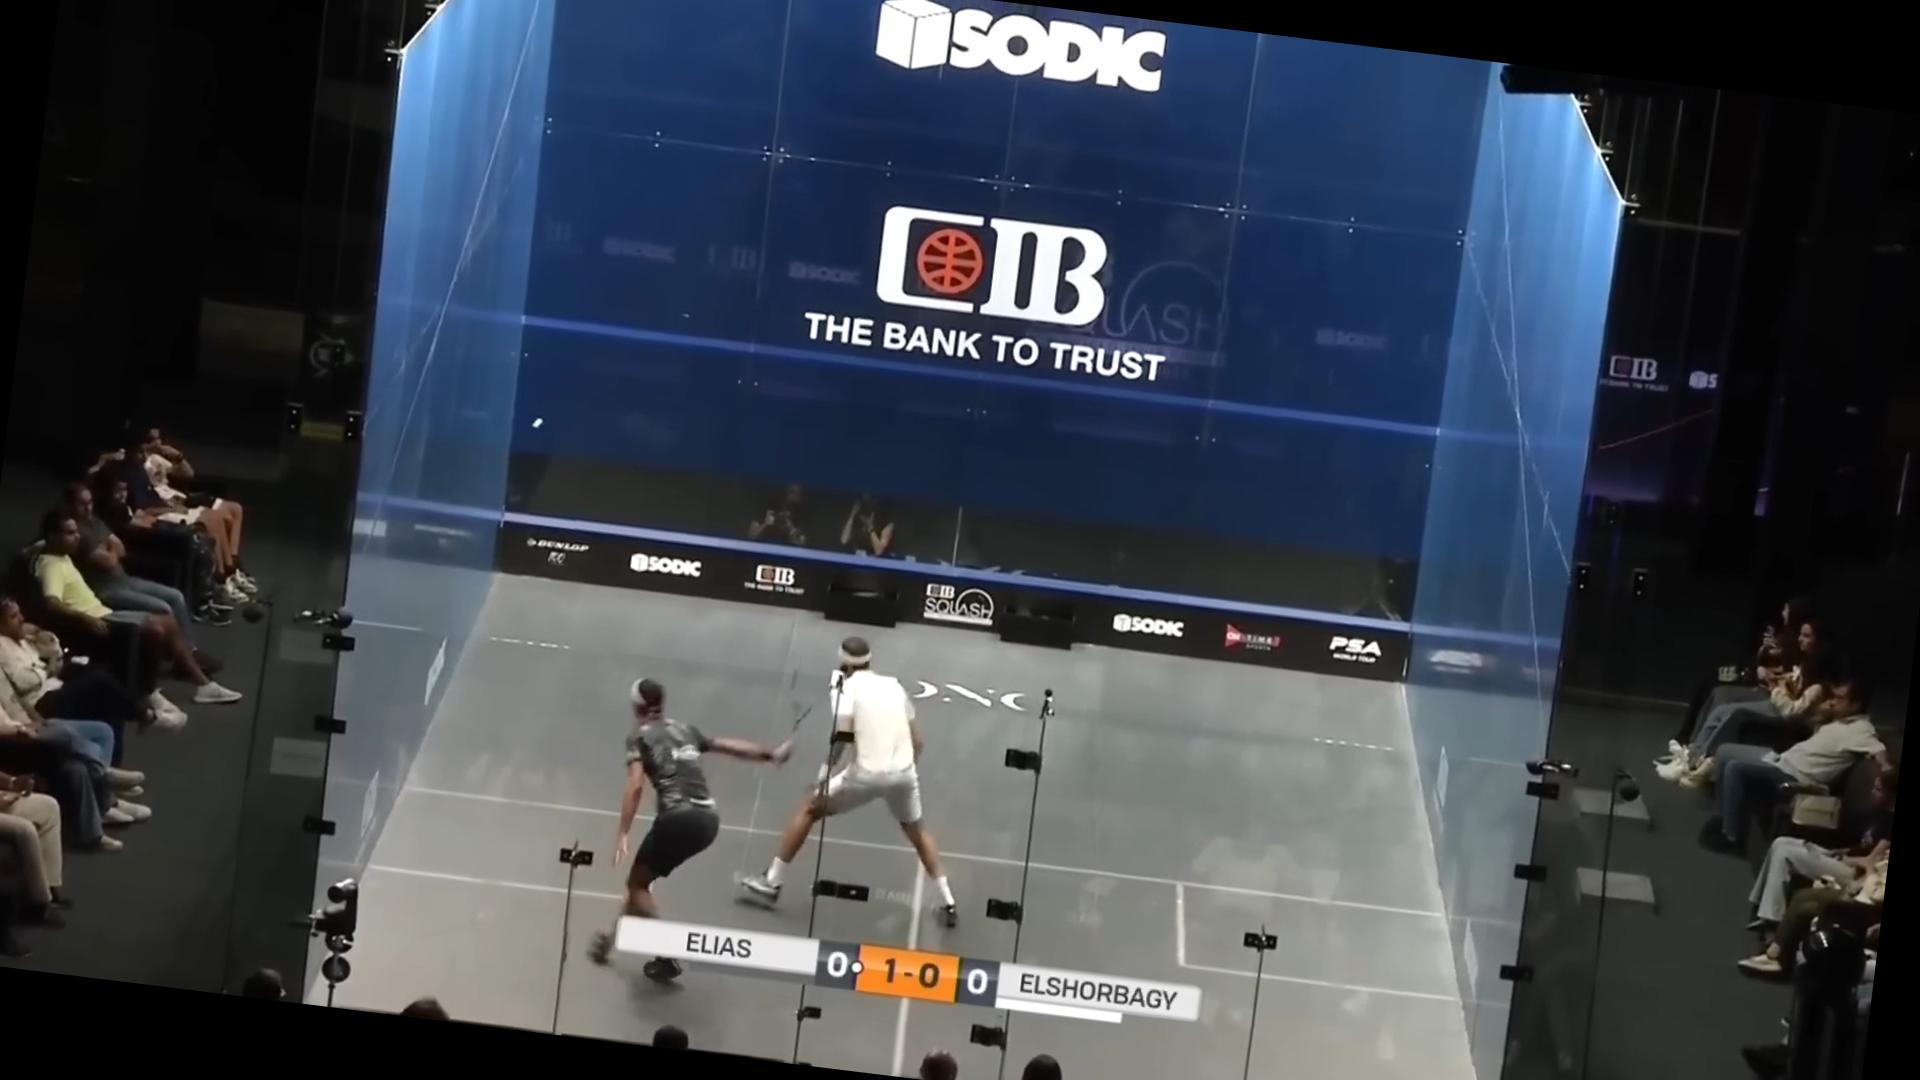Squash-Ball: (513, 405, 560, 440)
